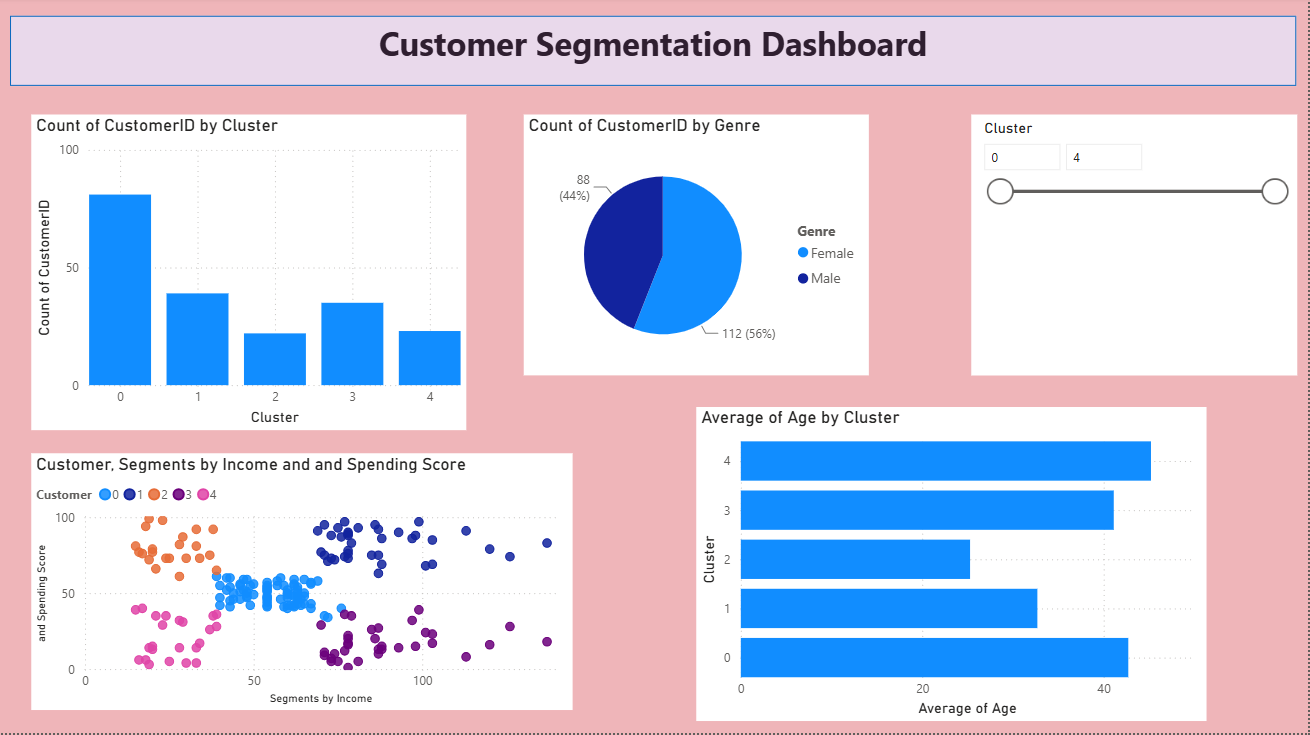

This screenshot's page, from the dashboard's own definition file:
{"tool":"powerbi","page":{"name":"Page 1","canvas":[1280,720],"ordinal":0},"visuals":[{"type":"textbox","box":[9.6,17.8,1258.3,68.6],"z":0},{"type":"pieChart","fields":{"Category":["Customer_Segmentation_Result.Genre"],"Y":["CountNonNull(Customer_Segmentation_Result.CustomerID)"]},"box":[511.8,115.3,337.6,255.2],"z":1000},{"type":"scatterChart","fields":{"X":["Customer_Segmentation_Result.Annual Income (k$)"],"Y":["Customer_Segmentation_Result.Spending Score (1-100)"],"Series":["Customer_Segmentation_Result.Cluster"]},"box":[30.2,446,529.7,251.1],"z":2000},{"type":"slicer","fields":{"Values":["Customer_Segmentation_Result.Cluster"]},"box":[949.6,115.3,318.4,255.2],"z":3000},{"type":"clusteredColumnChart","fields":{"Category":["Customer_Segmentation_Result.Cluster"],"Y":["CountNonNull(Customer_Segmentation_Result.CustomerID)"]},"box":[30.2,115.3,425.4,308.7],"z":4000},{"type":"clusteredBarChart","fields":{"Category":["Customer_Segmentation_Result.Cluster"],"Y":["Avg(Customer_Segmentation_Result.Age)"]},"box":[680.6,400.7,499.5,307.4],"z":5000},{"type":"shape","box":[9.6,17.8,1258.3,68.6],"z":5001}]}

Visuals, with their boxes in screenshot pixels (x1, y1, x2, y2), scaled from the page's 1280x720 canvas onto the 1310x735 screenshot:
textbox: 10,18,1298,88
pieChart - Customer_Segmentation_Result.Genre x CountNonNull(Customer_Segmentation_Result.CustomerID): 524,118,869,378
scatterChart - Customer_Segmentation_Result.Annual Income (k$) x Customer_Segmentation_Result.Spending Score (1-100): 31,455,573,712
slicer - Customer_Segmentation_Result.Cluster: 972,118,1298,378
clusteredColumnChart - Customer_Segmentation_Result.Cluster x CountNonNull(Customer_Segmentation_Result.CustomerID): 31,118,466,433
clusteredBarChart - Customer_Segmentation_Result.Cluster x Avg(Customer_Segmentation_Result.Age): 697,409,1208,723
shape: 10,18,1298,88
